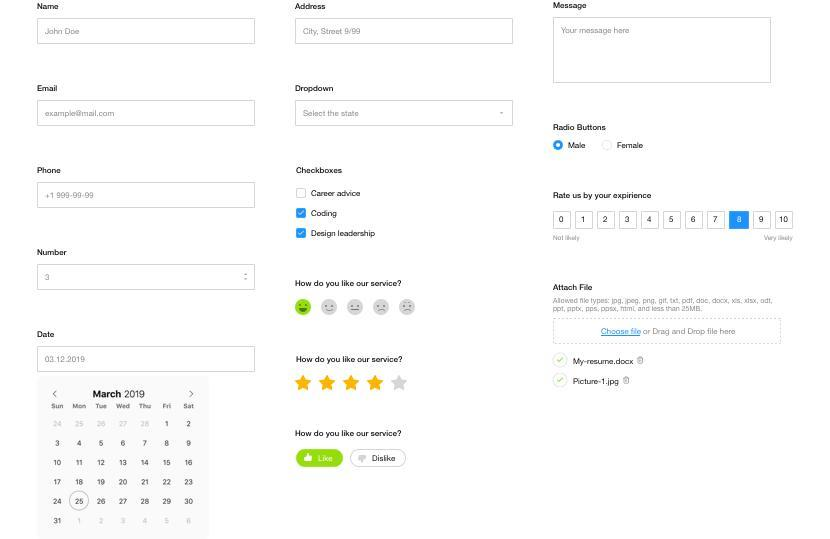button: (348, 449, 409, 470), (295, 449, 346, 470)
checkbox: (554, 372, 569, 390), (554, 354, 569, 369), (297, 228, 307, 240), (297, 209, 307, 220), (298, 189, 307, 199)
dropdown: (296, 102, 514, 127)
icon: (316, 375, 339, 396), (319, 298, 341, 318), (345, 299, 366, 319), (397, 299, 418, 319), (294, 375, 314, 396), (292, 299, 314, 318), (365, 374, 385, 394), (343, 376, 363, 395), (389, 375, 410, 393), (371, 300, 393, 317)
input: (555, 19, 773, 82), (556, 319, 782, 347), (39, 346, 256, 373), (39, 183, 256, 209), (39, 102, 256, 127), (39, 265, 256, 290), (39, 20, 256, 44), (297, 20, 514, 43)
label: (311, 229, 377, 241), (574, 358, 644, 368), (572, 377, 634, 388), (295, 166, 345, 178), (310, 190, 364, 201), (293, 84, 335, 95), (294, 3, 328, 14), (38, 249, 69, 260), (310, 209, 339, 220), (616, 142, 646, 152), (36, 166, 64, 176), (553, 3, 587, 11), (37, 84, 59, 95), (37, 3, 62, 12), (567, 140, 587, 150), (36, 331, 57, 340)
radio: (552, 211, 574, 229), (601, 141, 614, 153), (554, 141, 565, 152)
